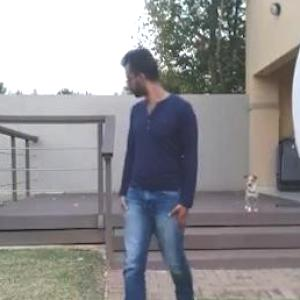follow: (90, 28, 202, 299)
